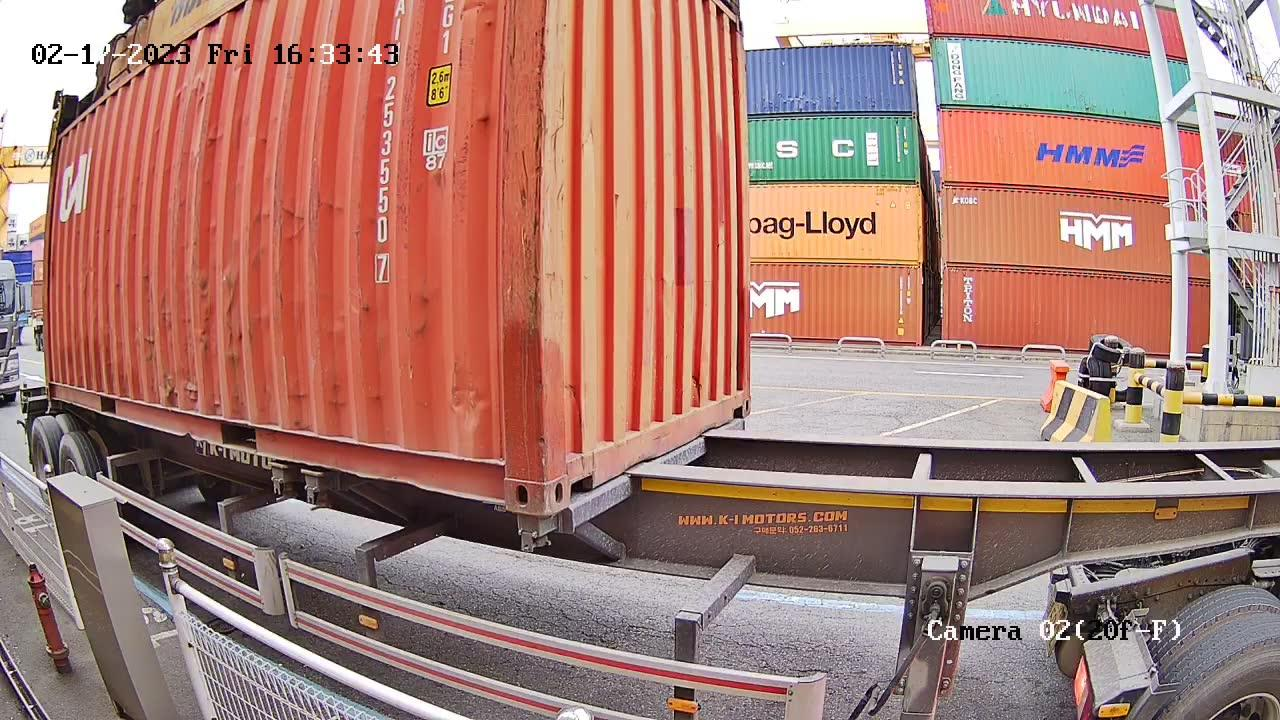Chassis: (539, 419, 745, 534)
Cone: (515, 514, 561, 554)
Hole_L: (541, 419, 599, 515)
Hole_R: (462, 432, 543, 515), (725, 374, 753, 422)
Tire: (29, 423, 56, 497), (57, 439, 89, 479)
